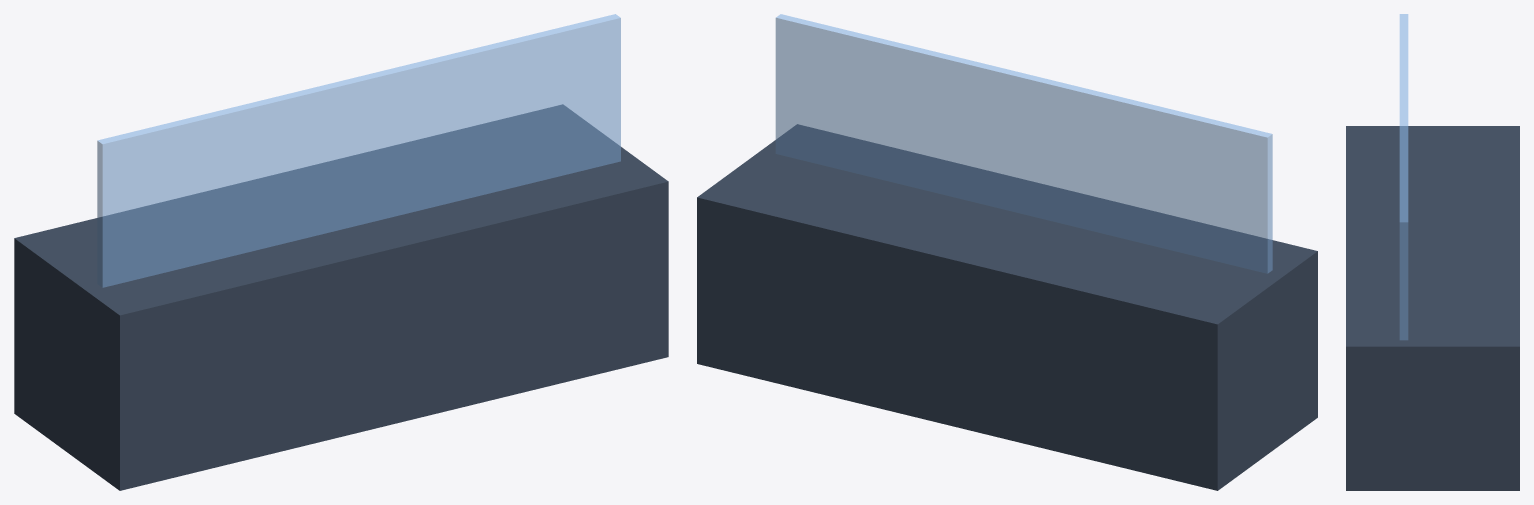
File: bank-counter.glb
3 renders of one model, left to right at view 1: azimuth 30°, elevation 25°; view 2: azimuth 150°, elevation 25°; view 3: azimuth 270°, elevation 25°, orthographic. The views are drawn at different scales.
Bounding box in the file's own units: 3.6 × 2 × 1.2.
